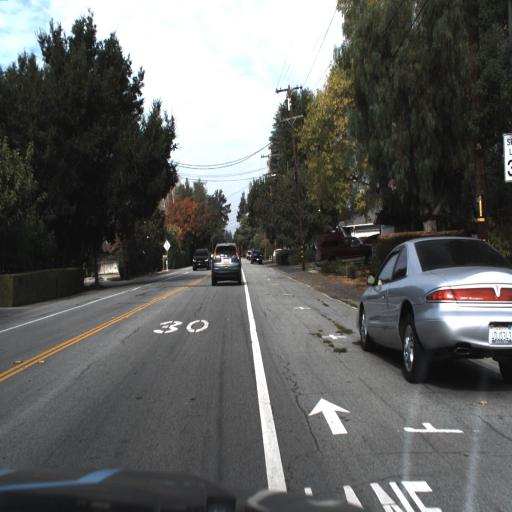car: (355, 236, 512, 386), (309, 225, 375, 272), (207, 239, 244, 289), (189, 244, 212, 276), (251, 245, 267, 266)
